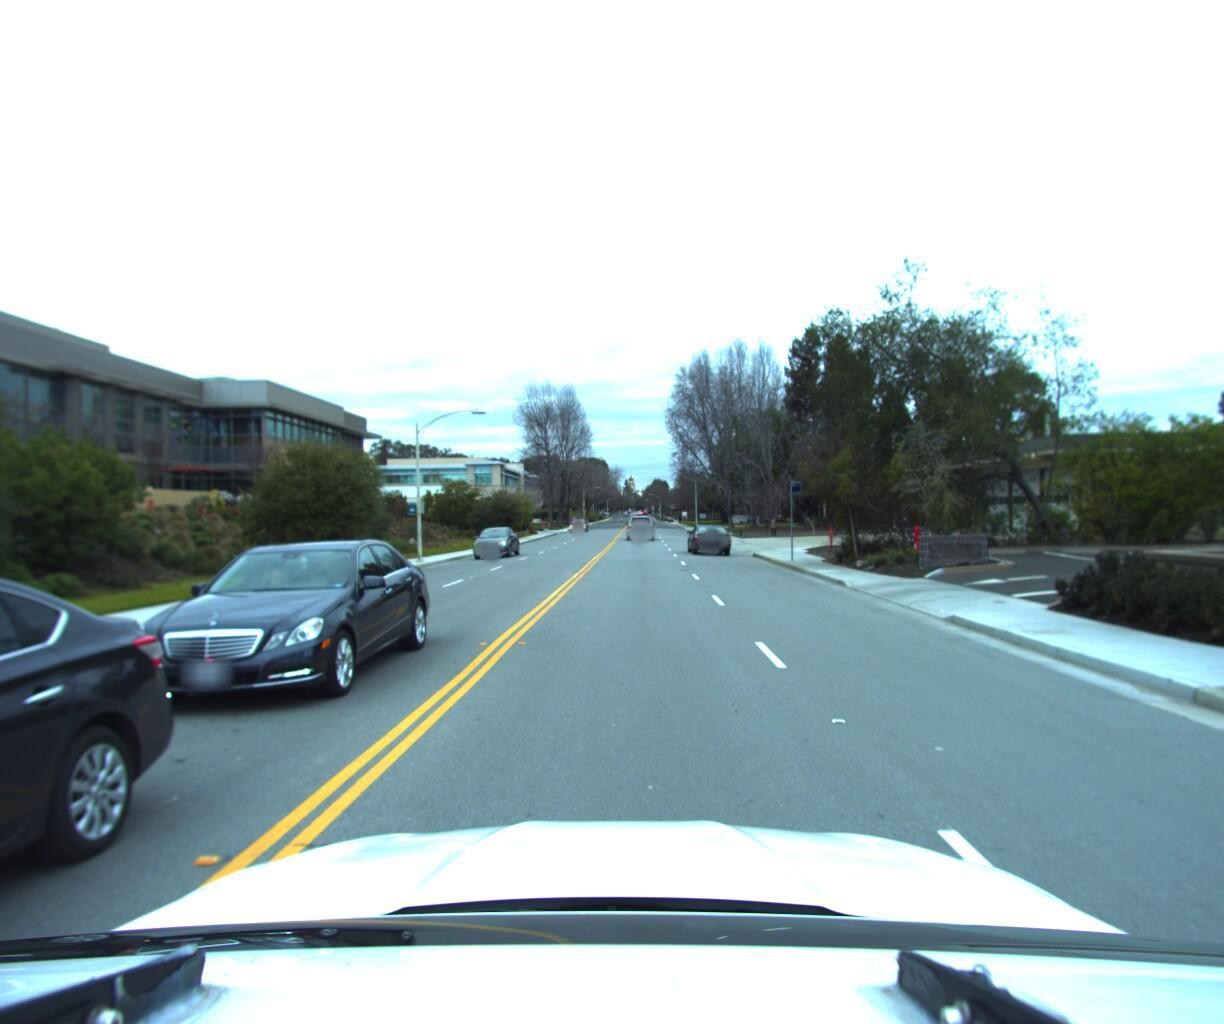car: (0, 541, 200, 1024), (100, 532, 438, 724), (469, 525, 521, 559), (682, 516, 731, 551), (626, 511, 656, 537), (569, 514, 589, 529)
